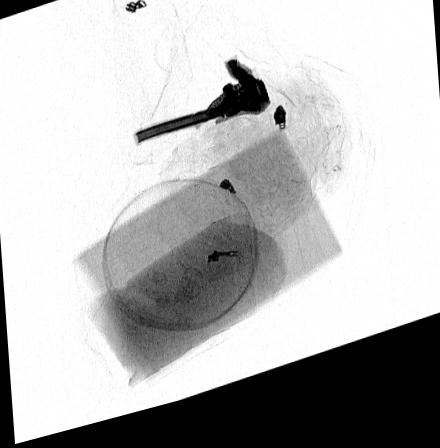Pliers: (132, 71, 272, 152)
